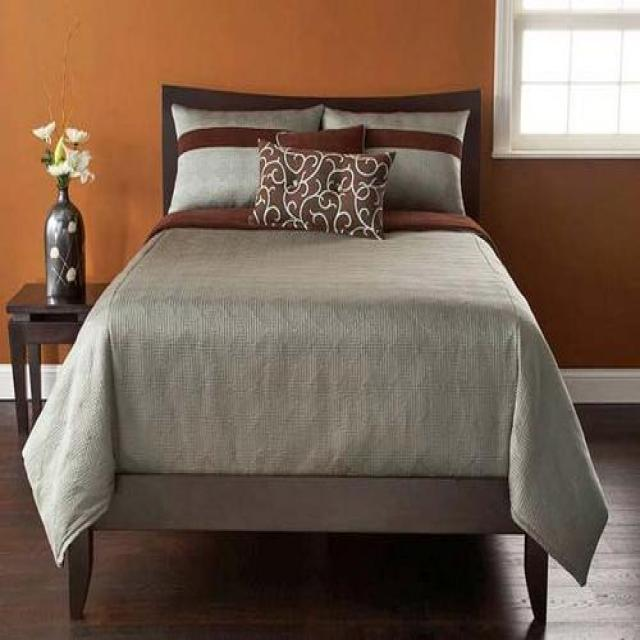bed: (20, 83, 608, 626)
table: (5, 279, 109, 435)
